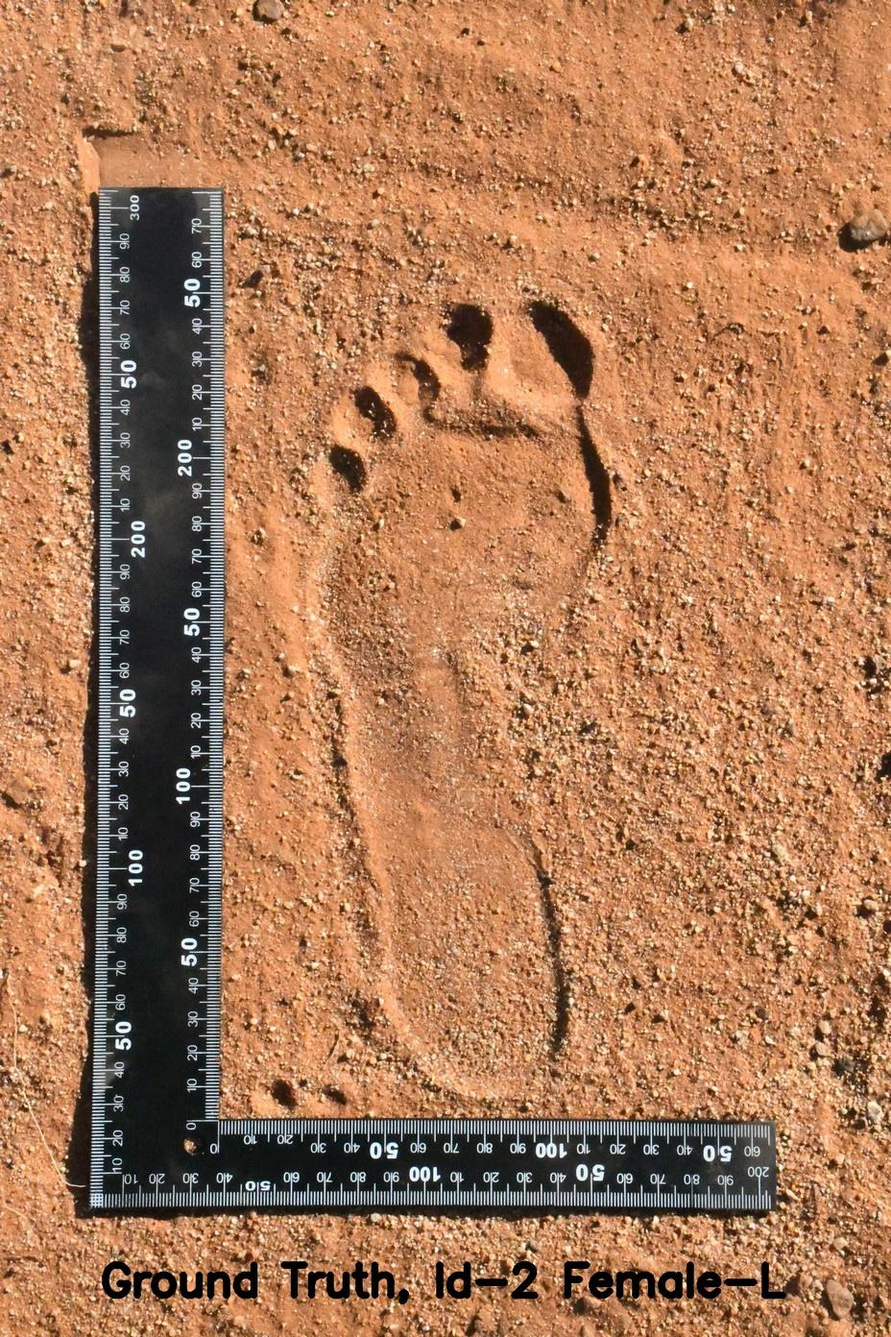human_footprint: (276, 237, 657, 1098)
